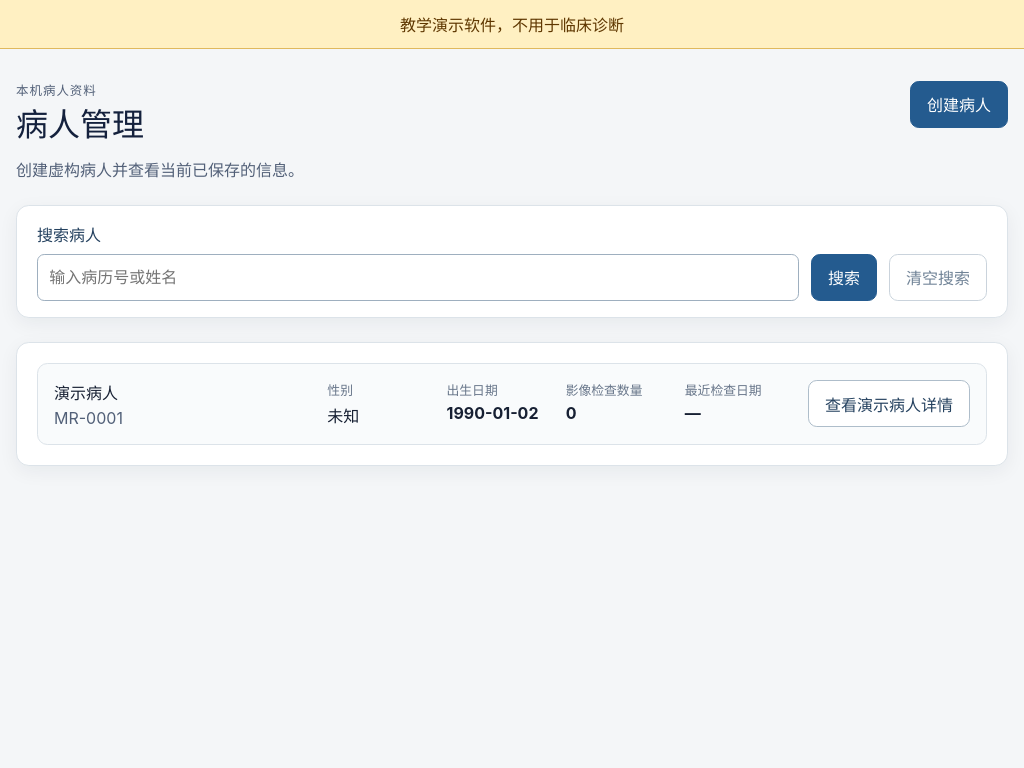
PatientManagementPage create and detail flow › shows all eight detail fields without displaying the internal UUID
Click the 4th button at (889, 404), box [808,380,970,427]
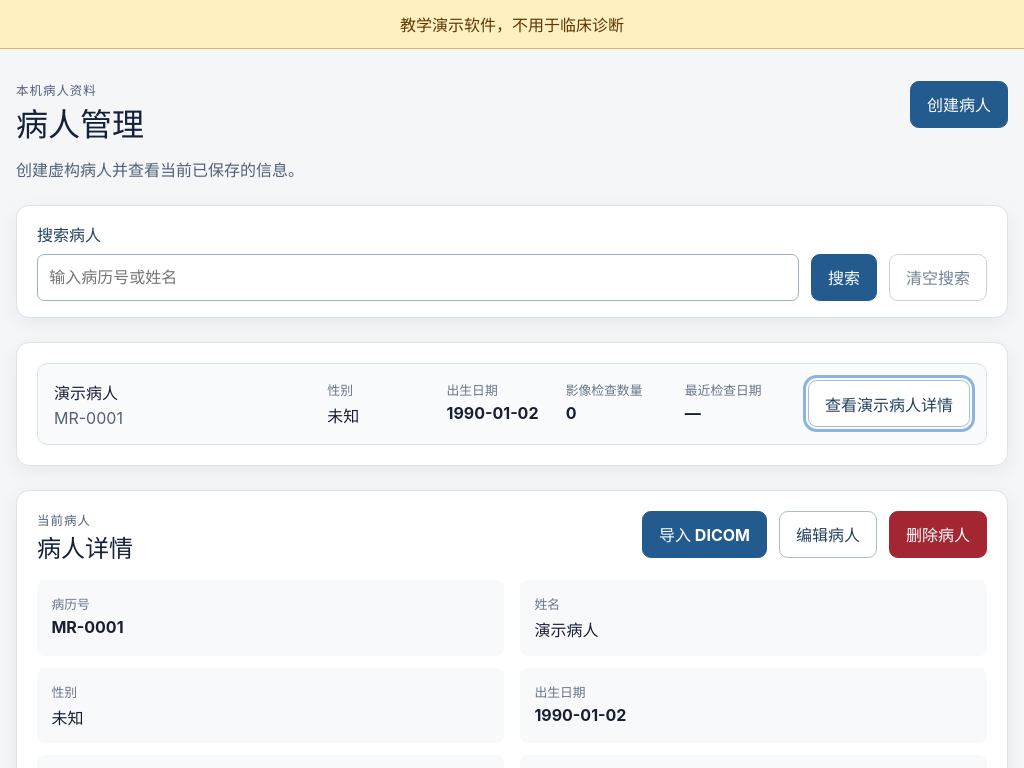
Now the text "病历号" is shown, box [51,597,90,612]
Now the text "姓名" is shown, box [534,597,560,612]
Now the text "性别" below "病历号" is shown, box [51,685,77,700]
